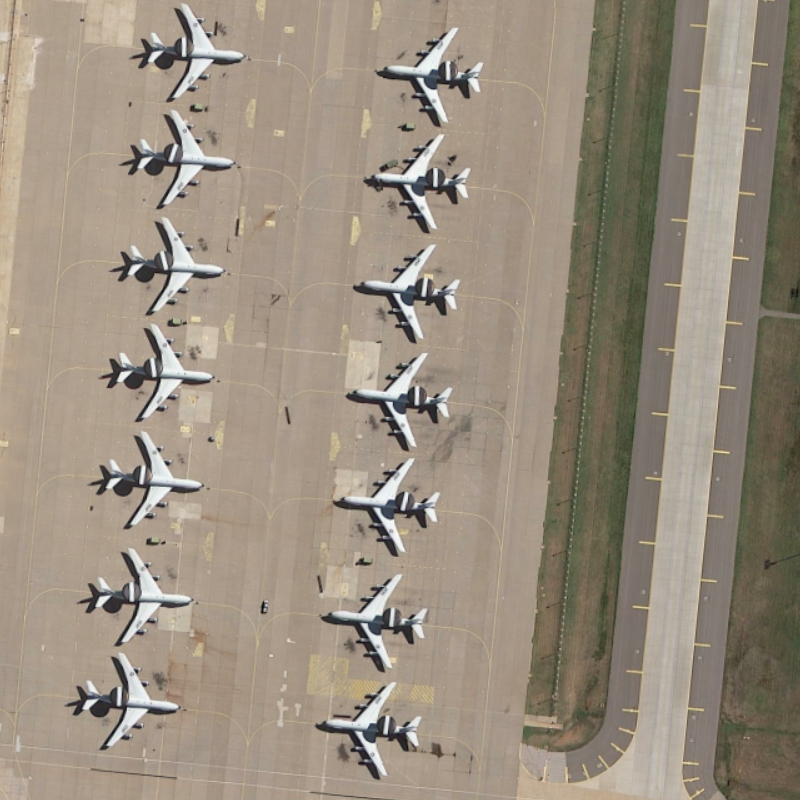A7: (355, 130, 483, 235), (68, 649, 192, 757), (89, 428, 209, 537), (126, 2, 249, 108), (315, 677, 431, 789), (341, 345, 458, 456), (320, 567, 437, 678), (326, 458, 448, 563), (348, 239, 464, 348), (80, 543, 198, 650), (115, 213, 230, 320), (370, 23, 486, 128), (131, 105, 237, 218), (104, 322, 215, 425)
